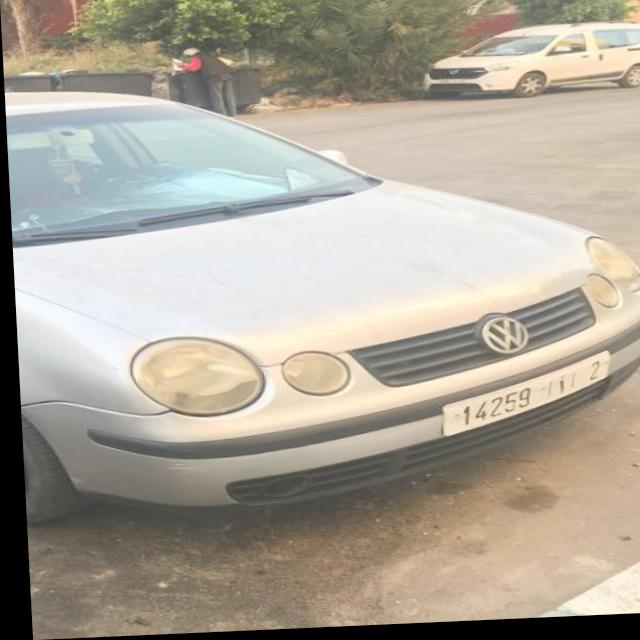License-Plate: (439, 358, 605, 439)
